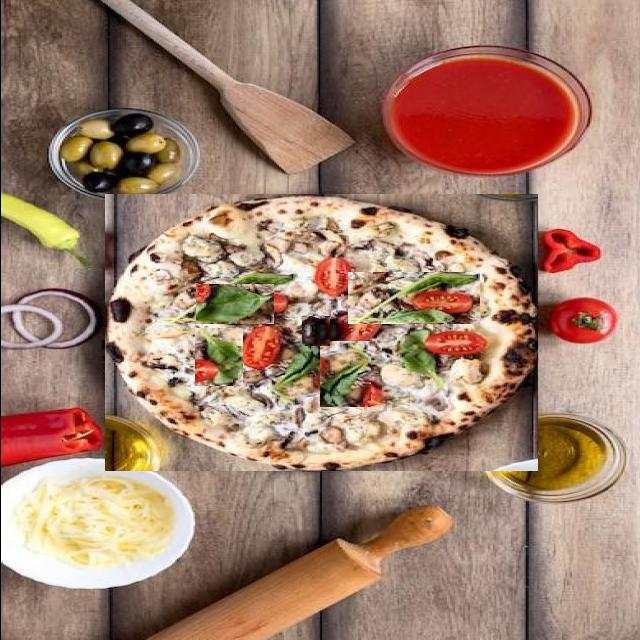basil: (347, 272, 479, 324), (319, 341, 370, 407), (195, 284, 273, 324), (194, 328, 242, 386), (301, 316, 329, 346)
pizza: (104, 194, 537, 471)
